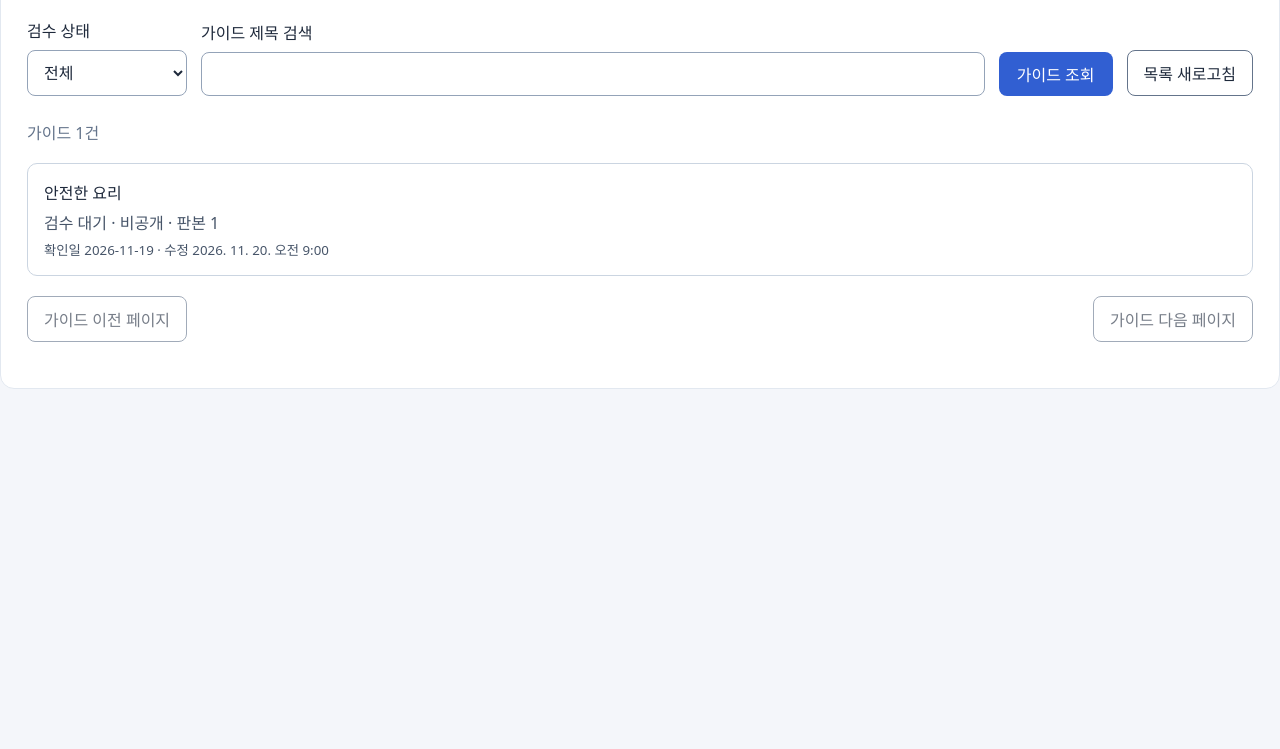
반려 의견은 필수이고 입력하면 판본과 함께 반려 API로 보낸다
The image size is (1280, 749).
Click the button "안전한 요리" at (83, 193), box [27,163,1253,276]
(page scrolled)
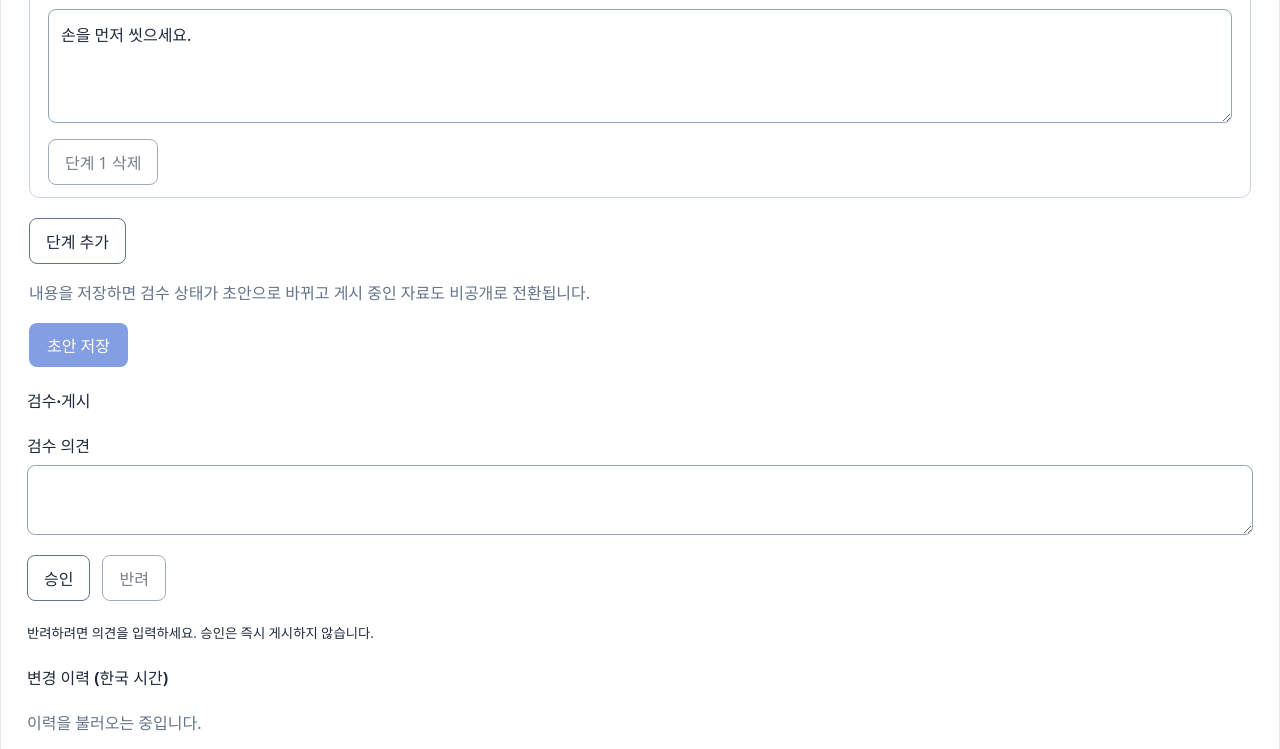
Type " 출처를 보완해 주세요. " into the text box labelled "검수 의견" at (640, 500), box [27,465,1253,535]
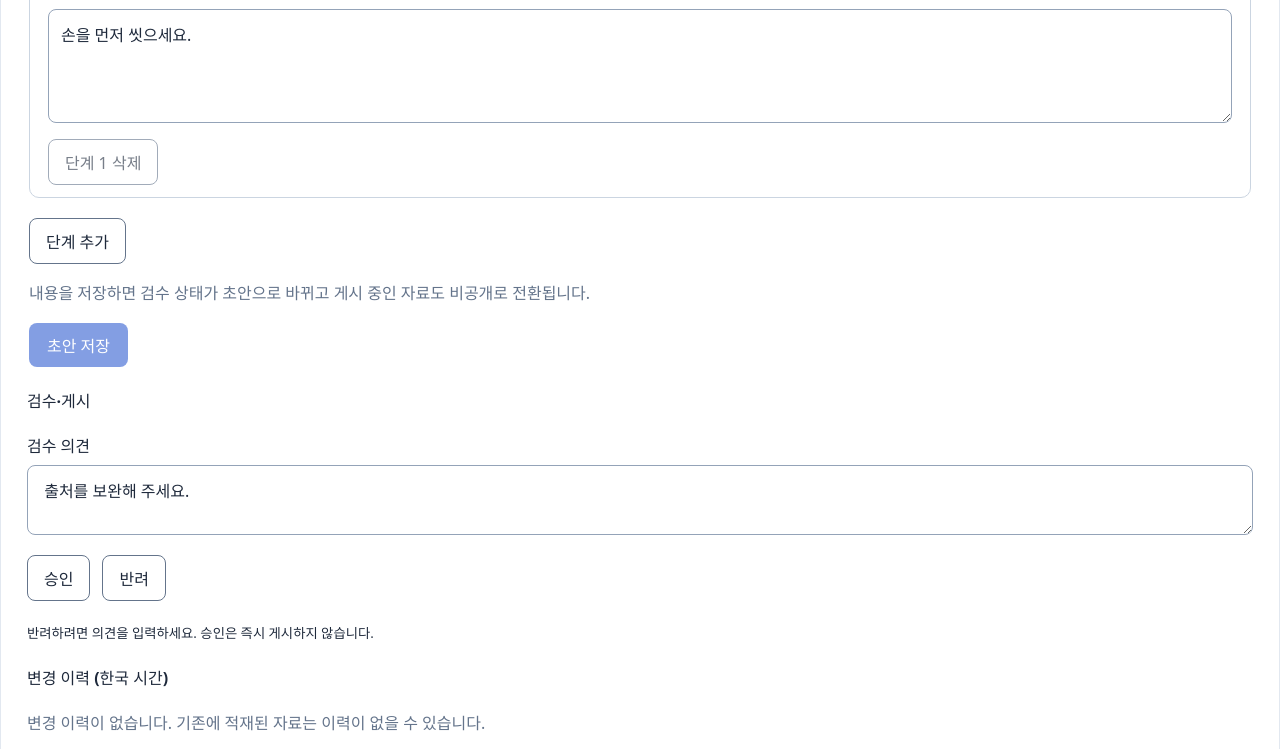
Click the button "반려" at (134, 578), box [102,555,166,601]
(page scrolled)
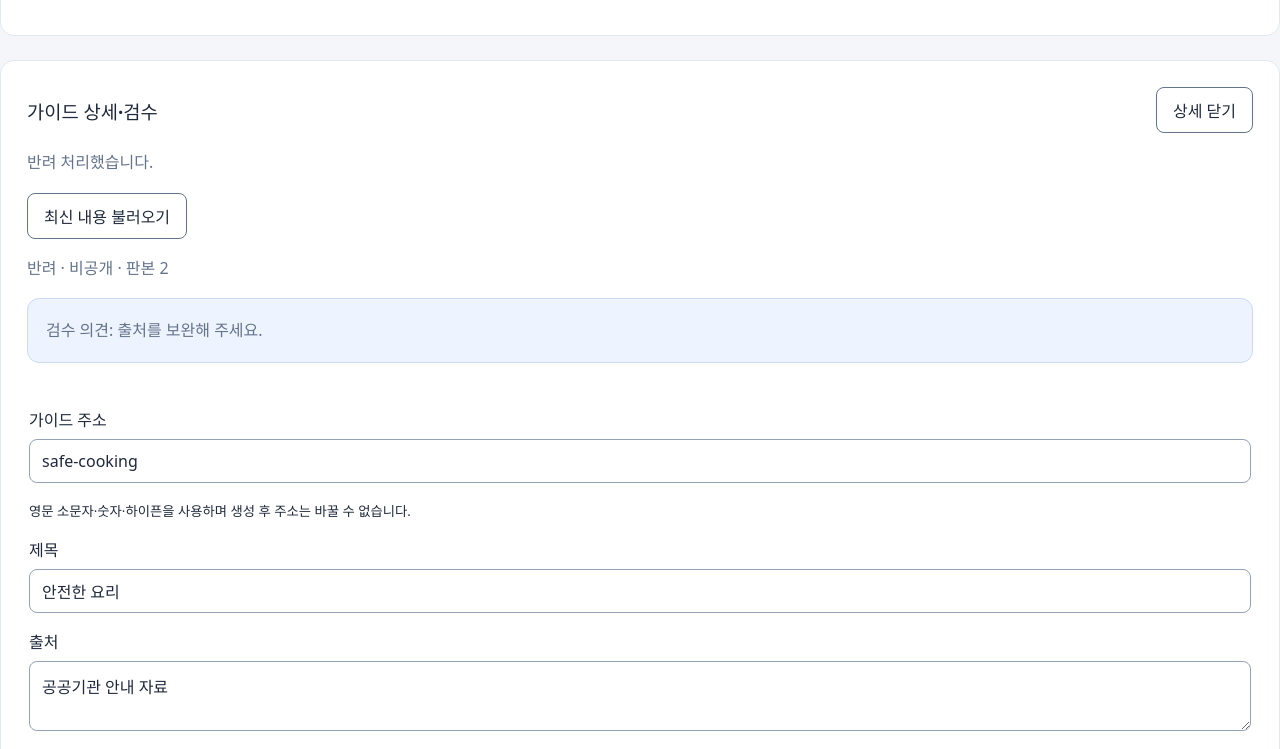
Now the text "반려 처리했습니다." is shown, box [27,151,153,173]
Now the text "검수 의견: 출처를 보완해 주세요." is shown, box [27,298,1253,363]
